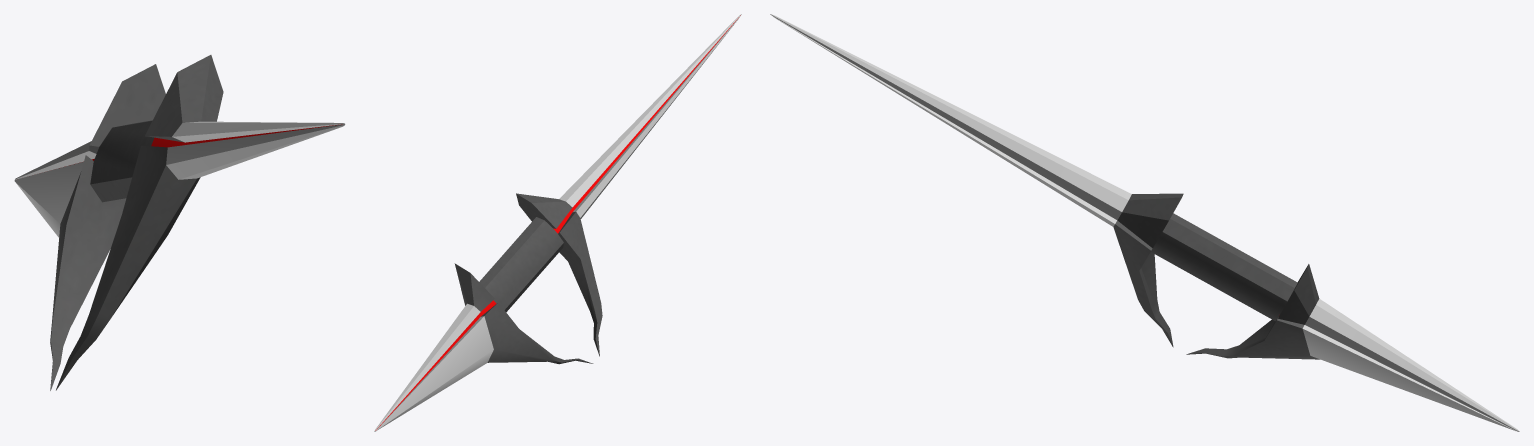
The model's file is dagger_right.fbx.
3 views of the same model, side by side, from view 1: azimuth 30°, elevation 25°; view 2: azimuth 150°, elevation 25°; view 3: azimuth 270°, elevation 25° (orthographic). The views are drawn at different scales.
Visible parts, largest first — view 1: dagger_right; view 2: dagger_right; view 3: dagger_right.
Part boxes in pixels (x1,y1,x2,y2): dagger_right: [14, 55, 345, 390]; dagger_right: [374, 14, 741, 431]; dagger_right: [770, 14, 1519, 431].
Bounding box in the file's own units: 72.21 × 166 × 324.
